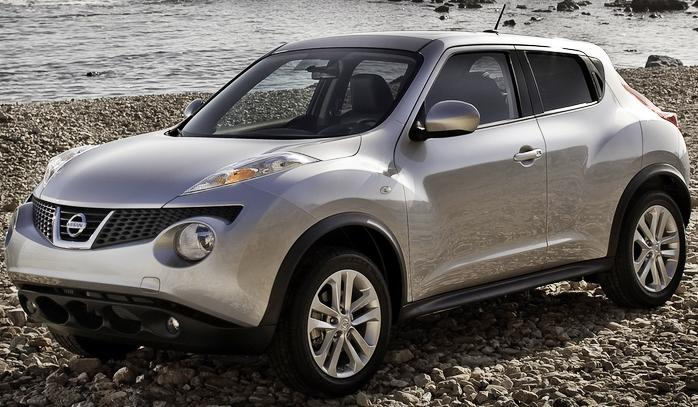front_view: (9, 154, 332, 388)
headlight: (189, 141, 337, 208)
side_glass: (388, 31, 593, 150)
